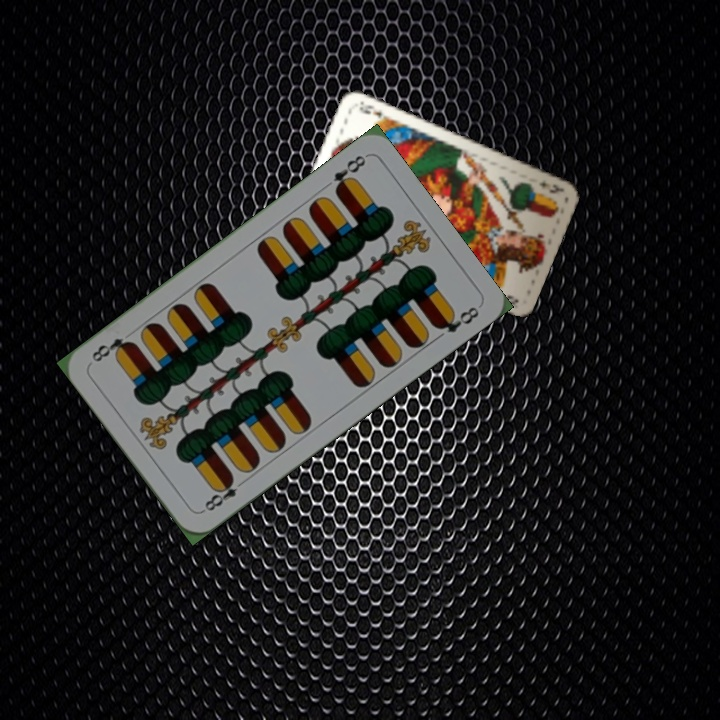E8: (198, 472, 249, 515), (329, 151, 369, 196)
EK: (535, 177, 566, 196)
